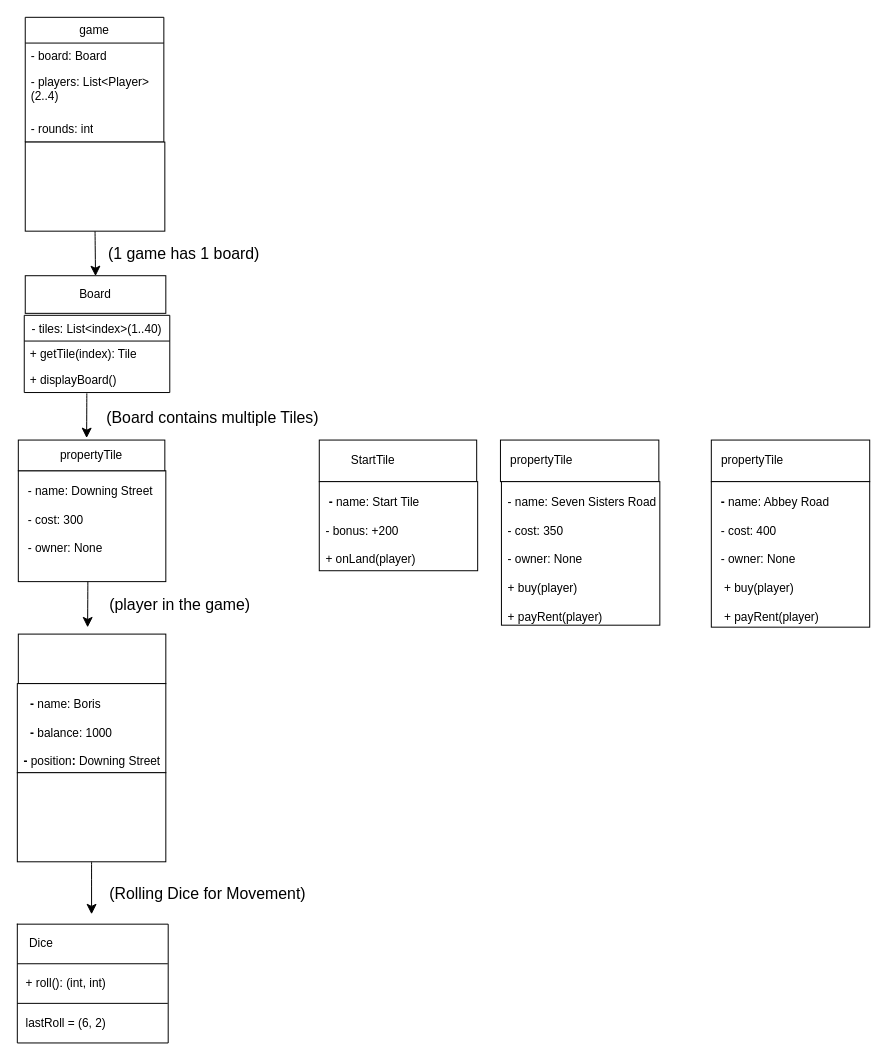
The diagram is 887 pixels wide and 1060 high, and some of its shapes have lost their labels. Here are the shapes that lost their labels. From the top down, the centre of each, then its label:
At (94,186): "´ + starGame() + nextTurn() + checkBankruptcy()".
At (91,658): "player: Boris".
At (91,817): "+ move(steps) + buyProperty() + payRent()".
